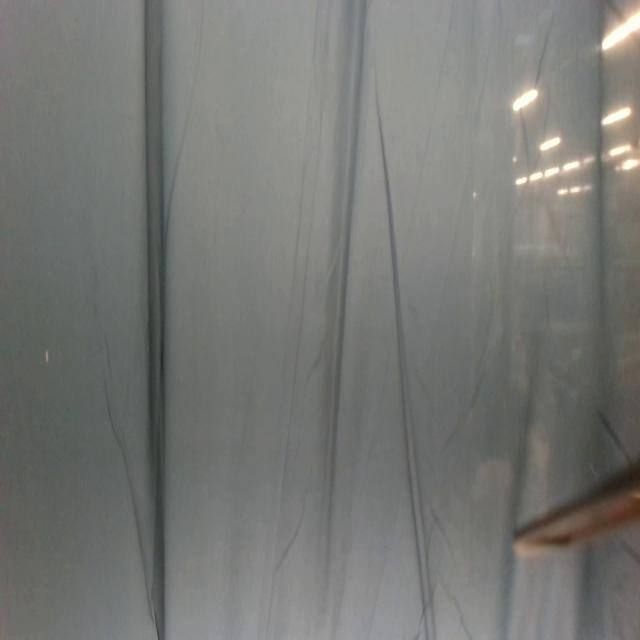crease: (373, 74, 438, 635), (258, 109, 326, 634), (100, 370, 160, 640), (591, 404, 632, 463), (534, 19, 556, 100)
hole: (44, 344, 50, 368)
